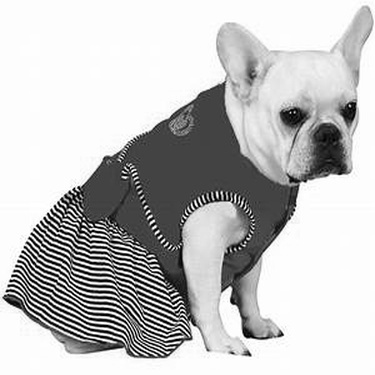dog: (5, 5, 372, 367)
